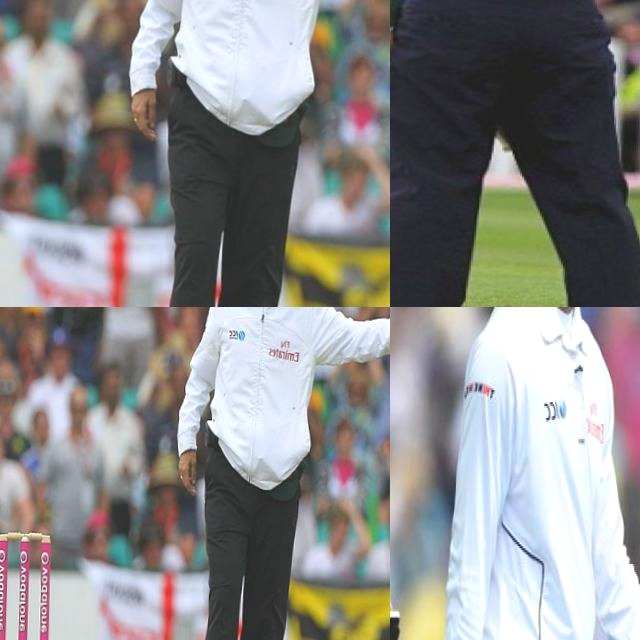No_Action: (428, 307, 640, 640), (390, 307, 510, 640)
No_Ball: (93, 0, 390, 307), (159, 307, 390, 640)
Out: (390, 0, 640, 307)
